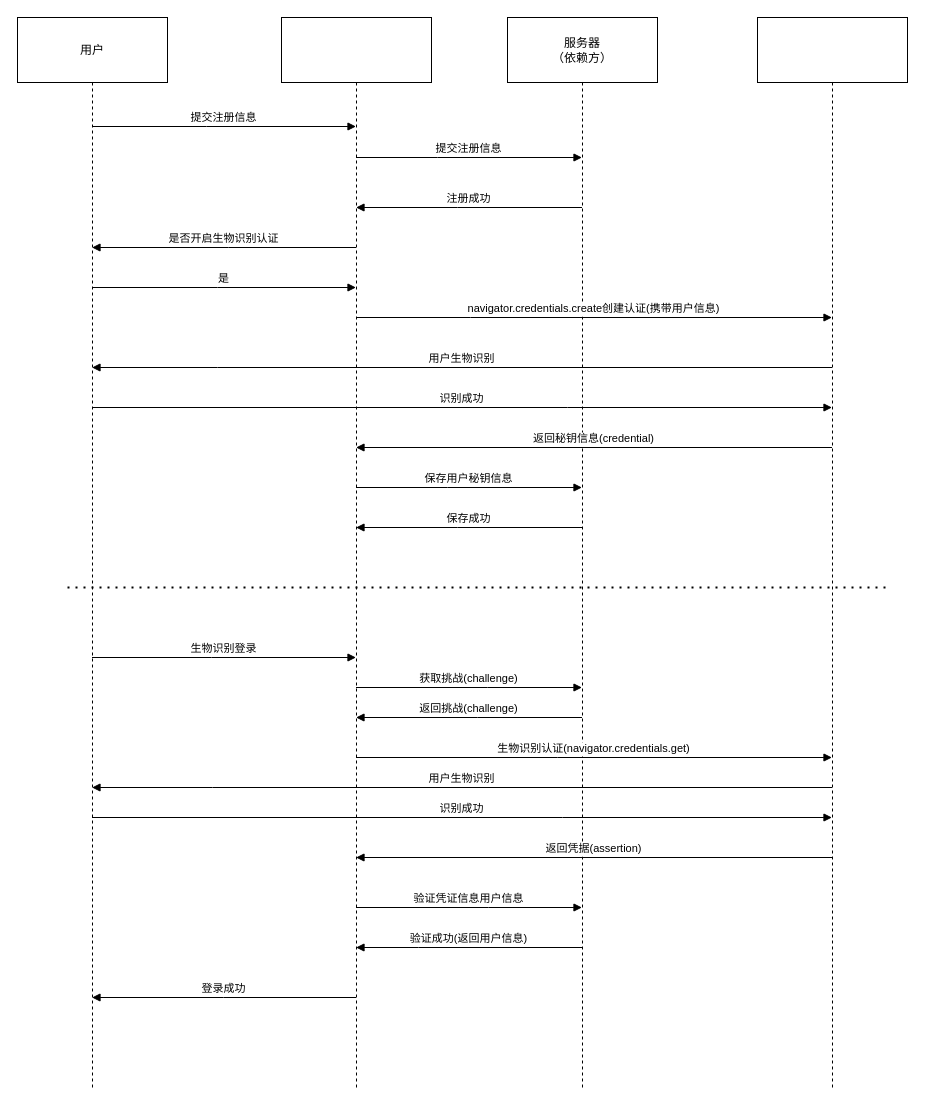
This 925x1105 diagram has some shape labels left out. Here are the shapes that lost their labels. From the top down, the box of each, then its label:
(280, 16, 432, 1088): 浏览器
(756, 16, 908, 1088): 认证器
